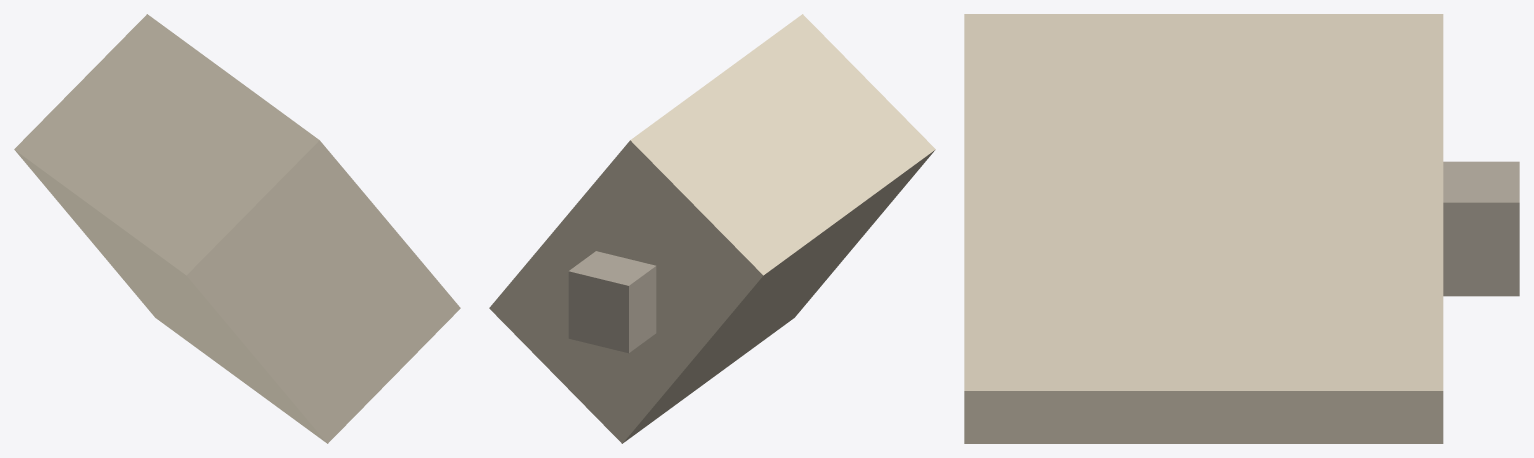
File: historic-palestine-11_13_3525_3078.glb
3 renders of one model, left to right at view 1: azimuth 30°, elevation 25°; view 2: azimuth 150°, elevation 25°; view 3: azimuth 270°, elevation 25°, orthographic. The views are drawn at different scales.
Parts seen in each view (by area): view 1: Building_; view 2: Building_, Roof access hut; view 3: Building_, Roof access hut.
Boxes of the visible parts, x1=… form: Building_: x1=14, y1=14, x2=460, y2=443; Building_: x1=489, y1=14, x2=935, y2=443; Roof access hut: x1=568, y1=251, x2=656, y2=353; Building_: x1=964, y1=14, x2=1443, y2=443; Roof access hut: x1=1443, y1=161, x2=1519, y2=296.
Bounding box in the file's own units: 6.89 × 7.34 × 8.7.
